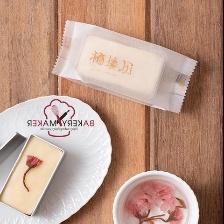snack: (44, 14, 206, 117)
